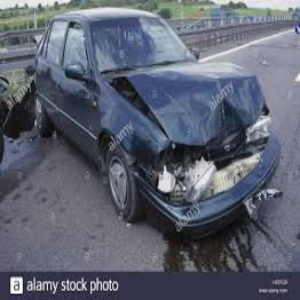bonnet: (121, 64, 204, 142)
bumper: (136, 145, 282, 242)
